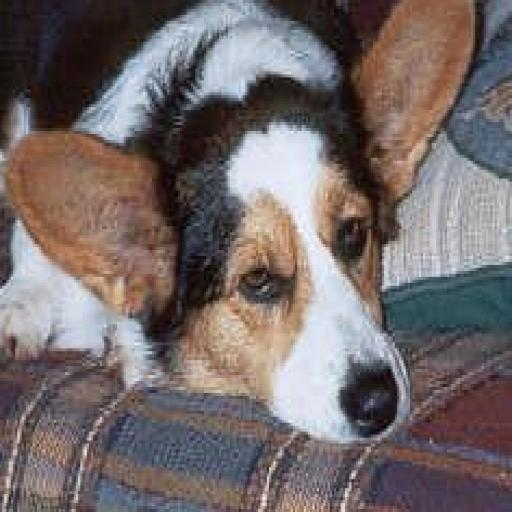dog_face: (15, 0, 460, 435)
